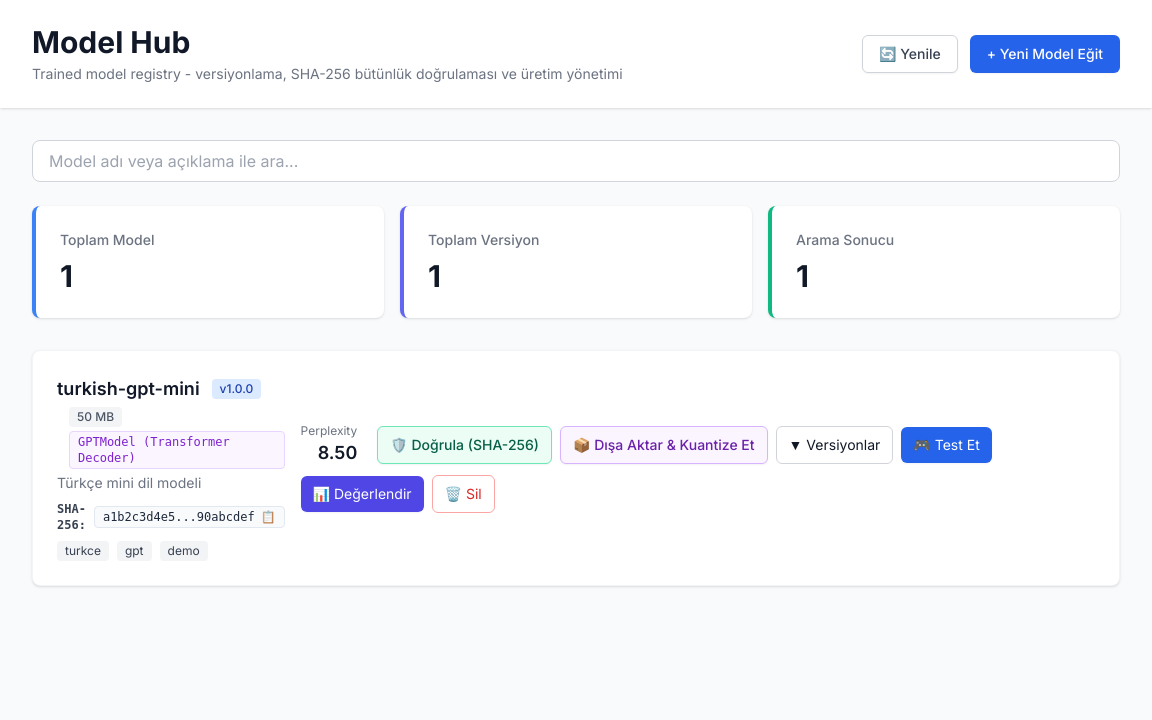
Scenario: ModelsPage - Model Export & Quantization Pipeline › updates live RAM & size estimation when changing quantization
The image size is (1152, 720).
Click the button "📦 Dışa Aktar & Kuantize Et" at (664, 445), box [560,426,768,464]
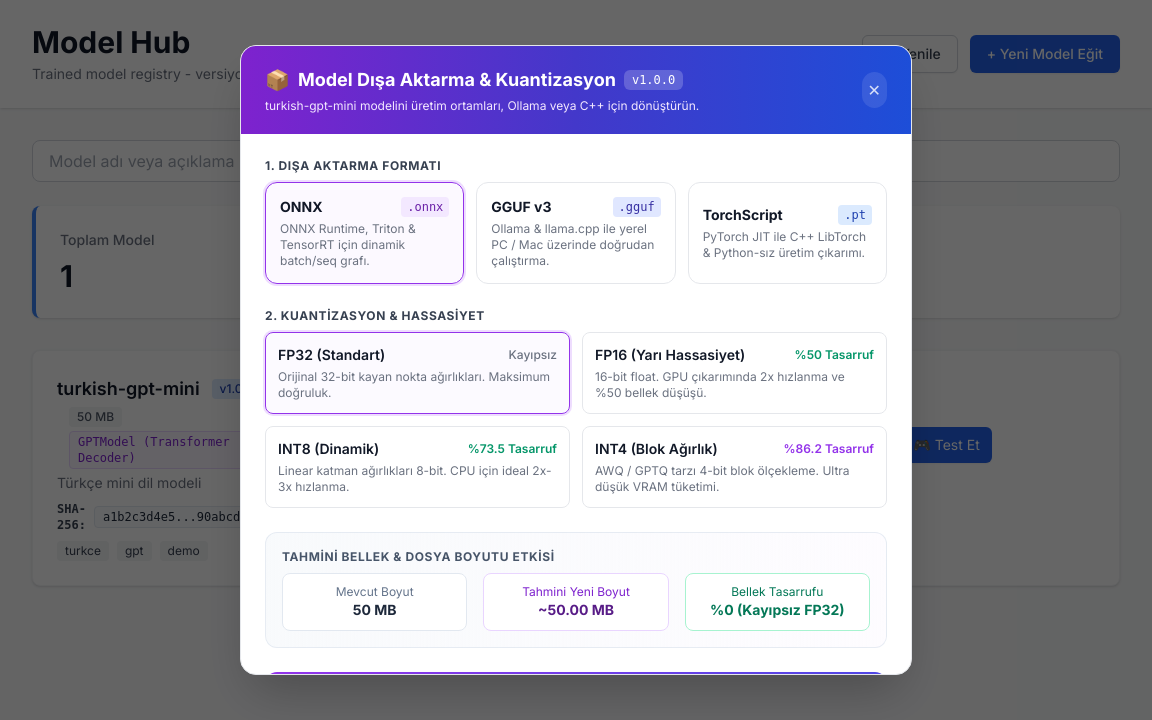
Select INT8
Click the text "INT8 (Dinamik)" at (329, 449), box [278,439,379,459]
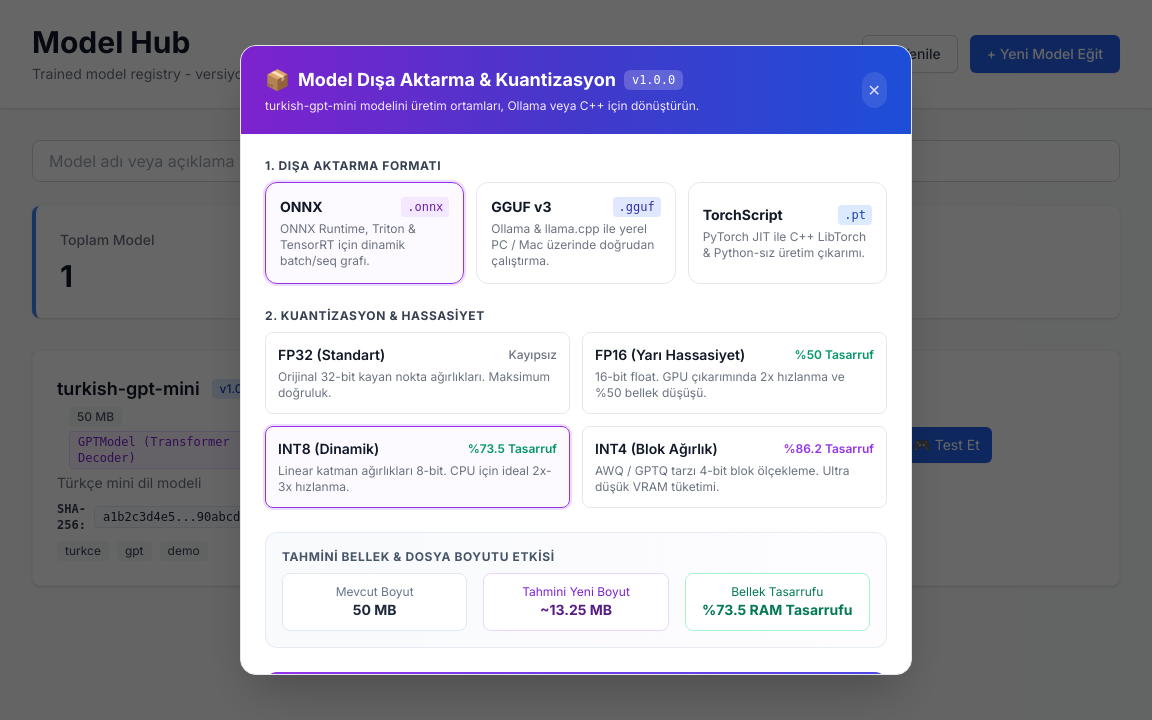
Check: the text "%73.5 RAM Tasarrufu" is shown, box [696,600,859,620]
Select INT4
Click the text "INT4 (Blok Ağırlık)" at (656, 449), box [595,439,718,459]
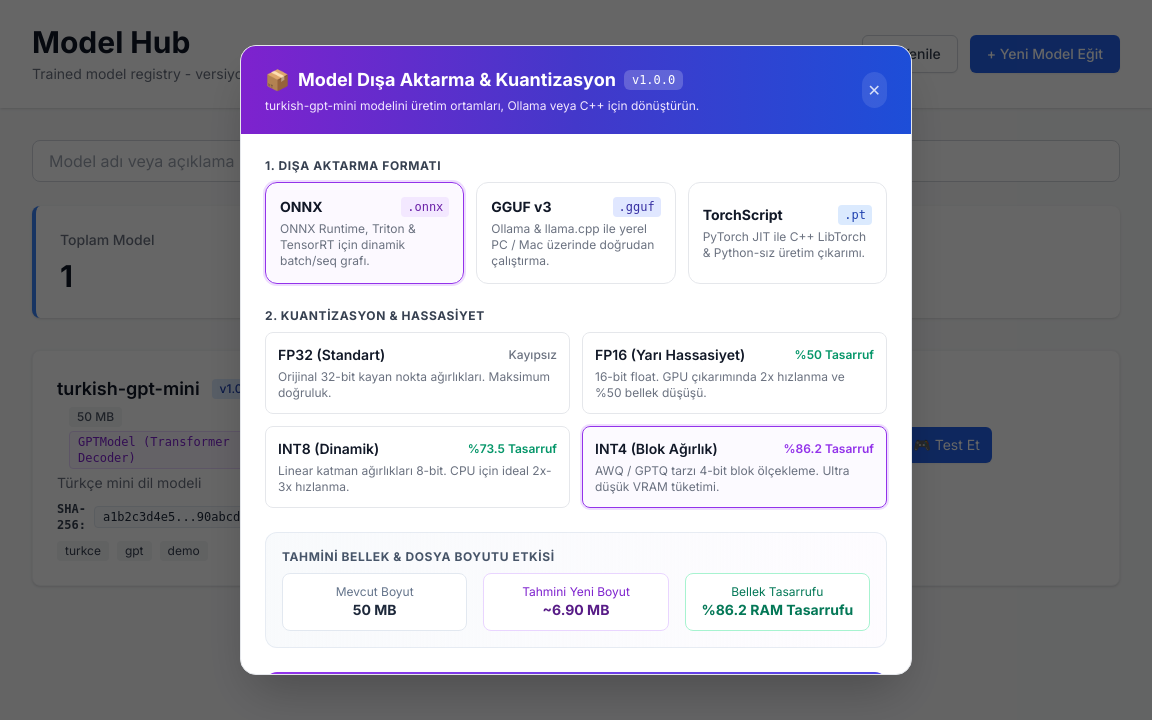
Check: the text "%86.2 RAM Tasarrufu" is shown, box [696,600,859,620]
